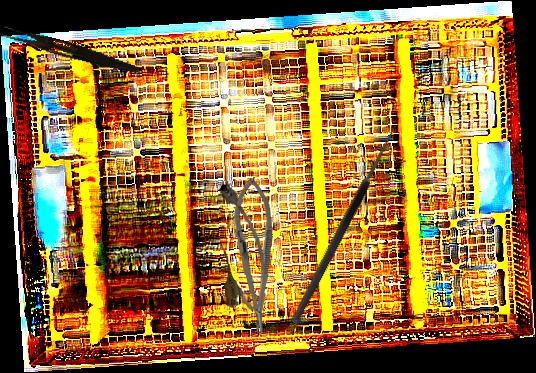Cannula: (211, 180, 271, 313)
Dressing Forceps: (0, 25, 142, 76)
Hook Surgical: (280, 116, 401, 326)
Needle Holder: (231, 176, 279, 335)
